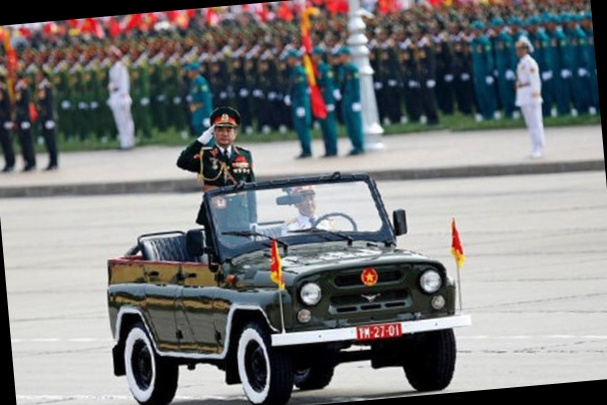plate: (357, 317, 403, 344)
